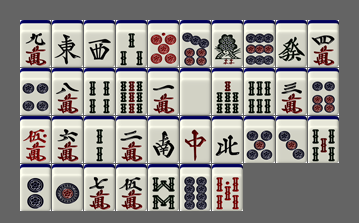0m: (20, 116, 51, 163)
0p: (148, 20, 179, 67)
0s: (212, 164, 243, 211)
1m: (148, 68, 179, 115)
1p: (52, 164, 83, 211)
1s: (212, 20, 243, 67)
1z: (52, 20, 83, 67)
2m: (116, 116, 147, 163)
2p: (20, 164, 51, 211)
2s: (84, 116, 115, 163)
2z: (148, 116, 179, 163)
3m: (276, 68, 307, 115)
3p: (276, 116, 307, 163)
3s: (116, 20, 147, 67)
3z: (84, 20, 115, 67)
4m: (308, 20, 339, 67)
4p: (20, 68, 51, 115)
4s: (84, 68, 115, 115)
4z: (212, 116, 243, 163)
5m: (116, 164, 147, 211)
5p: (244, 116, 275, 163)
5s: (308, 116, 339, 163)
5z: (180, 68, 211, 115)
6m: (52, 116, 83, 163)
6p: (308, 68, 339, 115)
6s: (244, 68, 275, 115)
6z: (276, 20, 307, 67)
7m: (84, 164, 115, 211)
7p: (180, 20, 211, 67)
7s: (212, 68, 243, 115)
7z: (180, 116, 211, 163)
8m: (52, 68, 83, 115)
8p: (180, 164, 211, 211)
8s: (148, 164, 179, 211)
9m: (20, 20, 51, 67)
9p: (244, 20, 275, 67)
9s: (116, 68, 147, 115)
